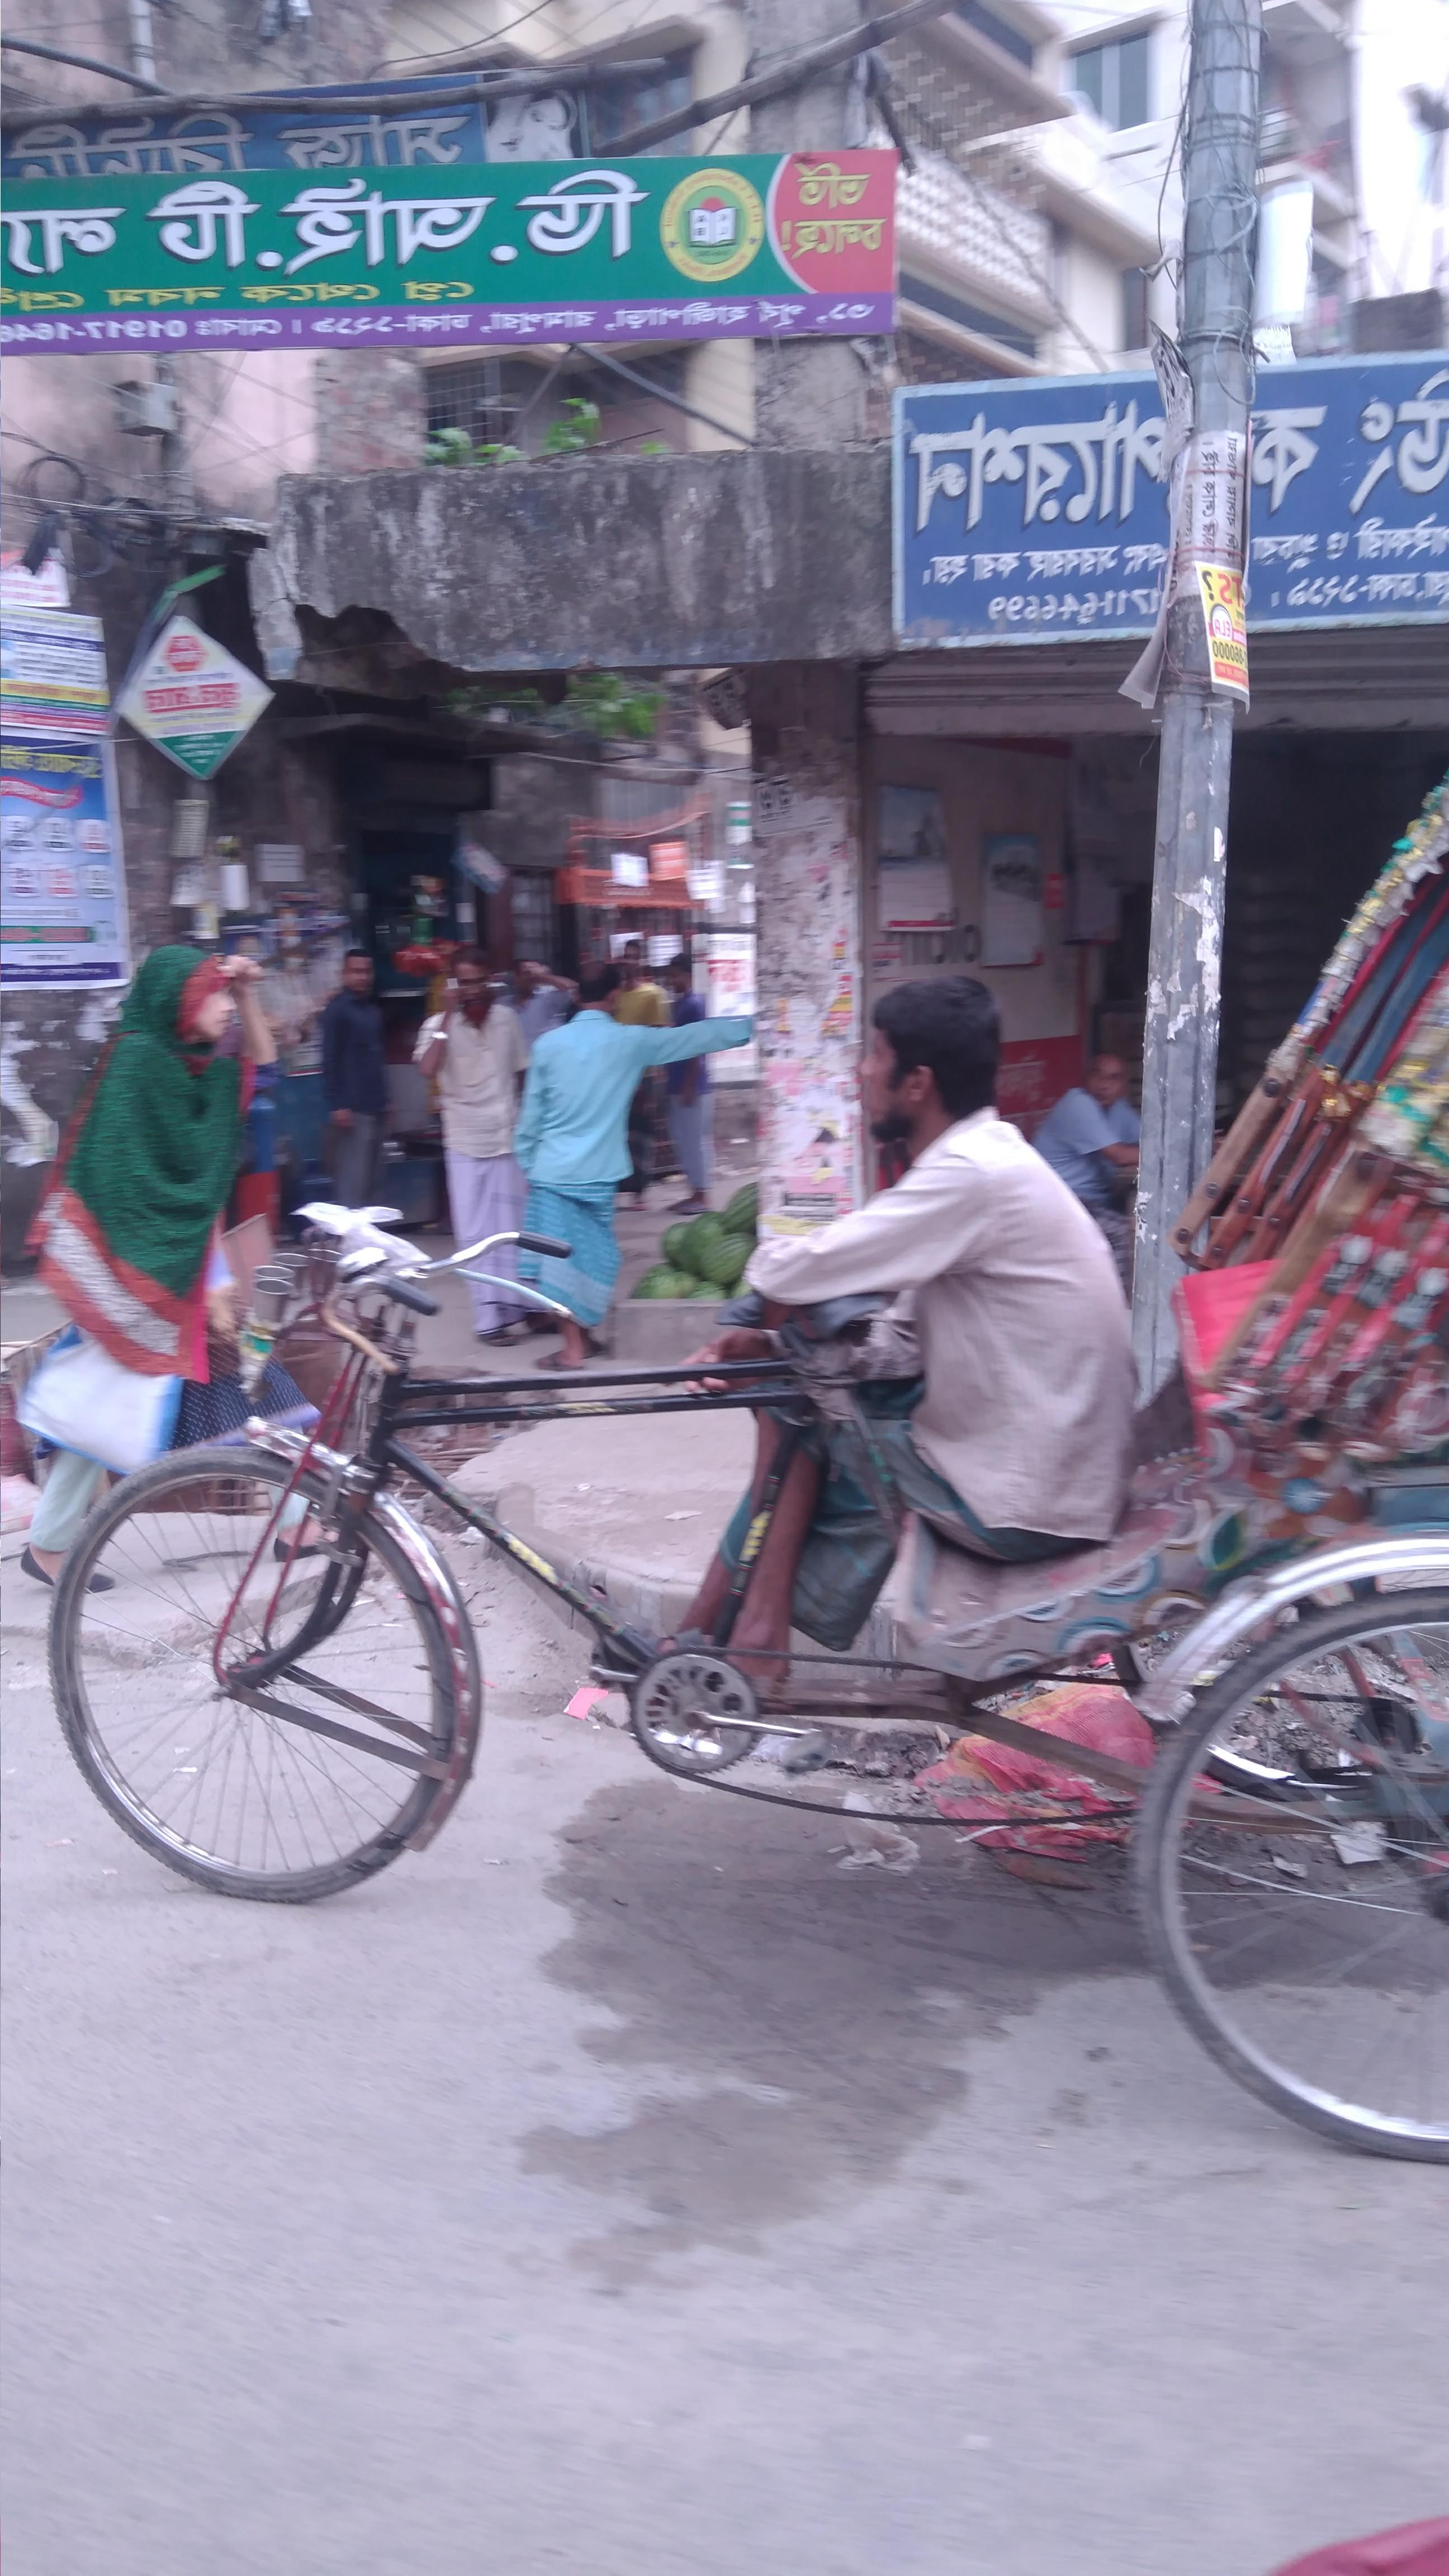Rickshaw: (90, 816, 1447, 2061)
